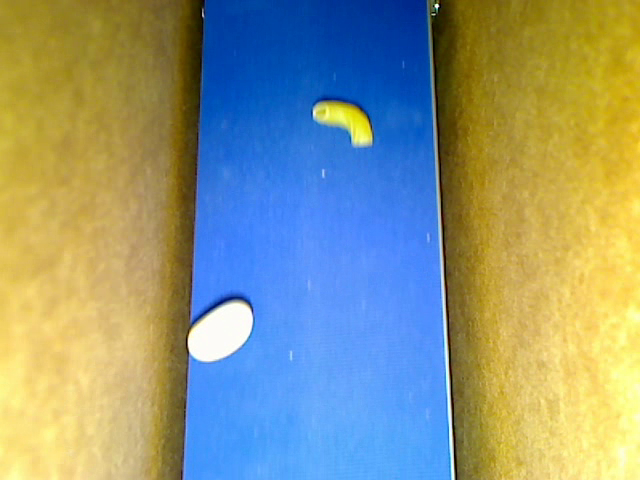elbow: (313, 102, 371, 146)
